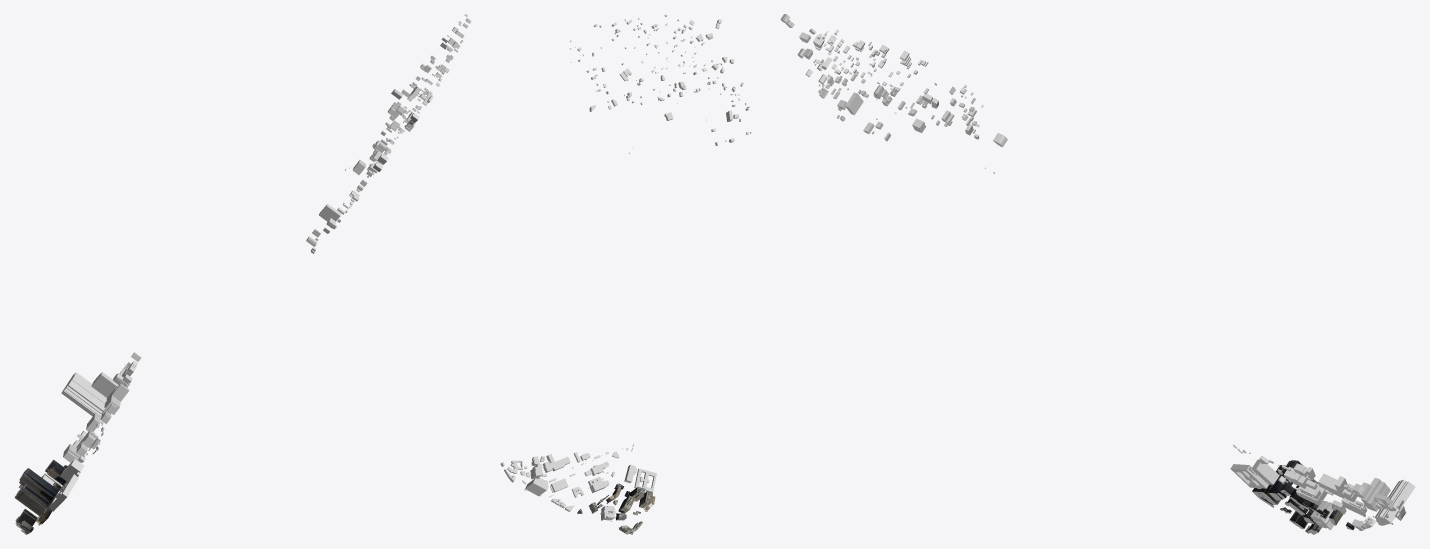
The model's file is data0.glb.
3 renders of one model, left to right at view 1: azimuth 30°, elevation 25°; view 2: azimuth 150°, elevation 25°; view 3: azimuth 270°, elevation 25°, orthographic. The views are drawn at different scales.
Size of the model in its own units: 1399 by 2756 by 2670.
Materials: 29 (28 with a texture image).
